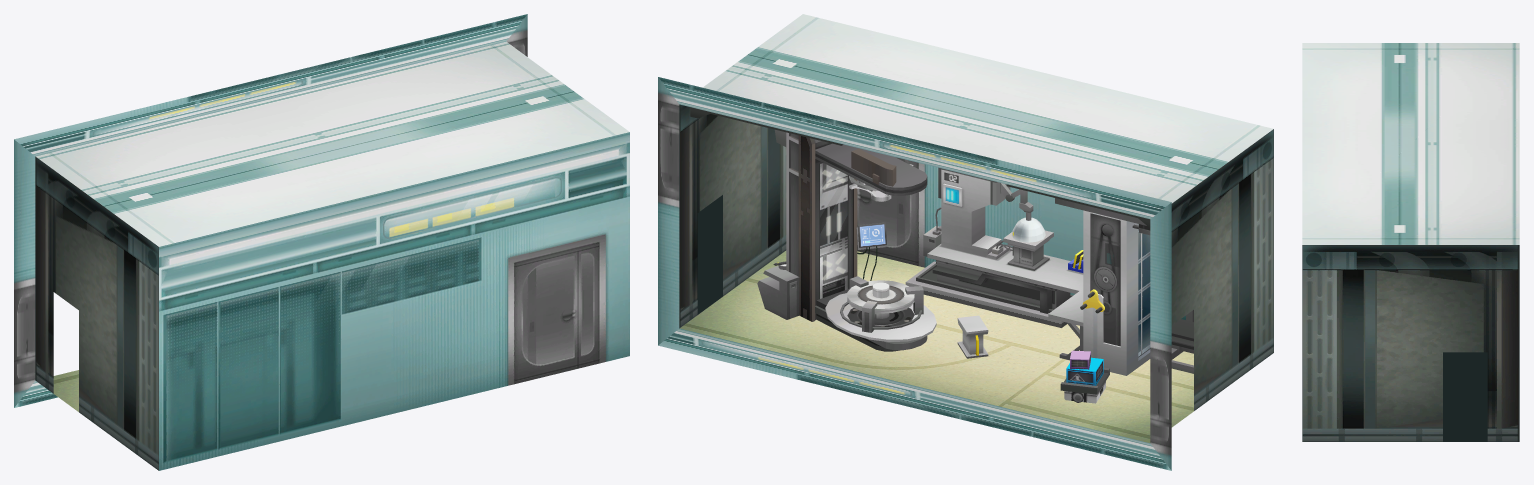
Rendered from recycle.glb.
The picture shows the model from 3 angles, left to right: view 1: azimuth 30°, elevation 25°; view 2: azimuth 150°, elevation 25°; view 3: azimuth 270°, elevation 25°; orthographic projection. The views are drawn at different scales.
Visible parts, largest first — view 1: SHELL_room_01, SHELL_room_02; view 2: SHELL_room_01, OBJ_room_inner_4x2x2_recycle_00, SHELL_room_02, OBJ_room_inner_4x2x2_recycle_01, SHELL_LDoor, OBJ_room_inner_4x2x2_recycle_02; view 3: SHELL_room_01, SHELL_LDoor.
Boxes of the visible parts, box(x1,y1,x2,y2) form: SHELL_room_01: box(35, 41, 629, 470); SHELL_room_02: box(14, 14, 527, 407); SHELL_room_01: box(679, 14, 1273, 442); OBJ_room_inner_4x2x2_recycle_00: box(690, 107, 1193, 403); SHELL_room_02: box(658, 77, 1171, 470); OBJ_room_inner_4x2x2_recycle_01: box(773, 148, 1193, 402); SHELL_LDoor: box(697, 195, 722, 314); OBJ_room_inner_4x2x2_recycle_02: box(1011, 217, 1045, 242); SHELL_room_01: box(1302, 43, 1519, 441); SHELL_LDoor: box(1443, 352, 1487, 441).
Size of the model in its own units: 5.28 by 2.64 by 2.2.
6 materials, 6 textured.
